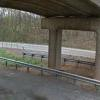Bridge: (5, 2, 95, 65)
